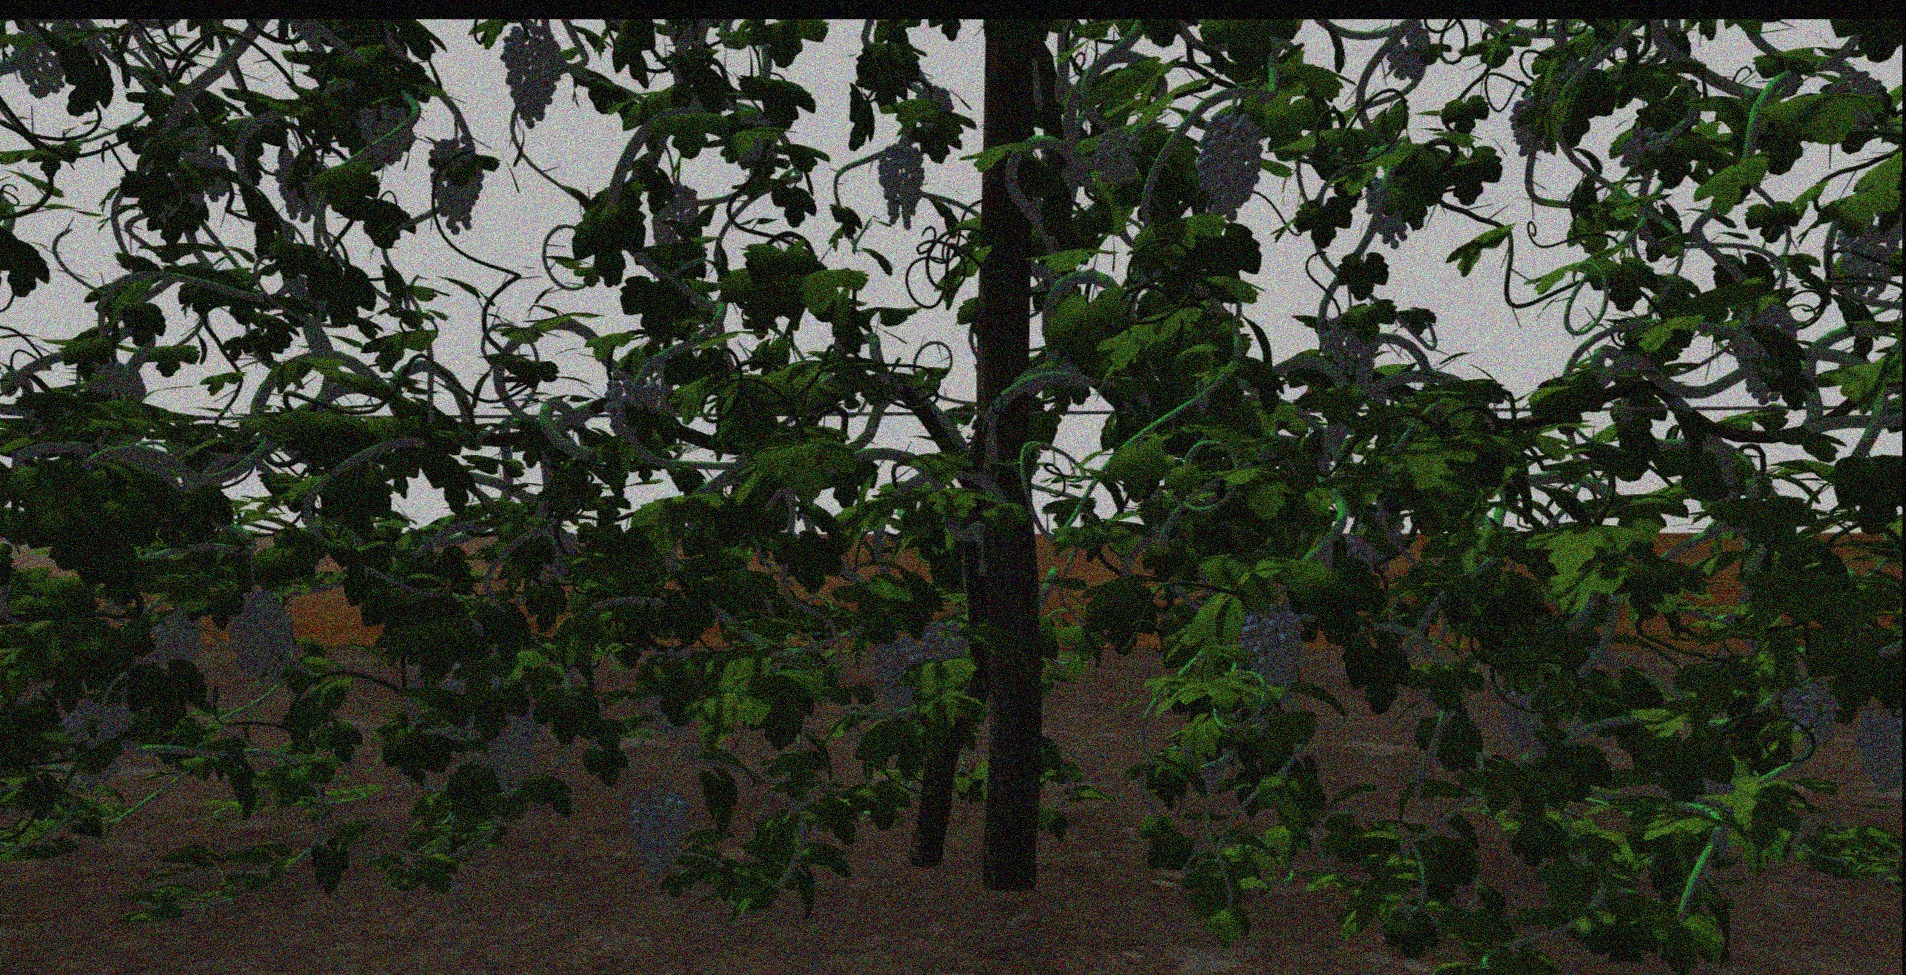grape: (1192, 102, 1264, 220), (63, 695, 131, 793), (504, 25, 563, 127), (229, 591, 296, 680), (1734, 306, 1795, 403), (1245, 597, 1305, 691), (632, 788, 688, 890), (428, 138, 485, 233), (1784, 672, 1840, 754), (489, 709, 540, 798), (1320, 311, 1381, 386), (1834, 223, 1890, 303), (877, 143, 925, 233), (1854, 708, 1901, 795), (603, 371, 660, 441), (1502, 686, 1557, 760), (357, 104, 417, 168), (14, 29, 67, 98), (877, 638, 923, 716), (650, 182, 701, 250), (150, 616, 204, 672), (1384, 25, 1430, 83), (1618, 122, 1670, 172), (1090, 132, 1139, 185), (919, 619, 969, 665)
